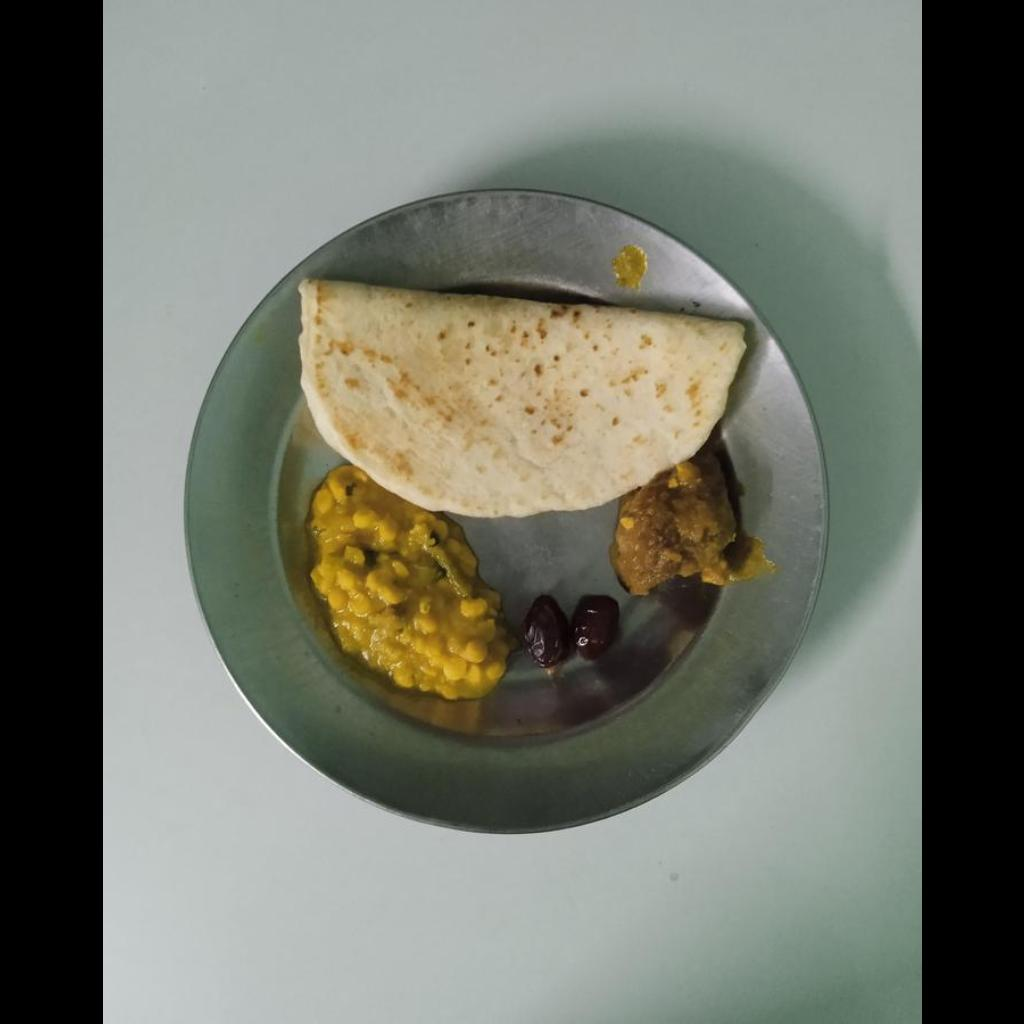achar: (613, 449, 771, 595)
daal: (308, 474, 512, 686)
dates: (526, 598, 616, 675)
ruti: (302, 286, 741, 514)
